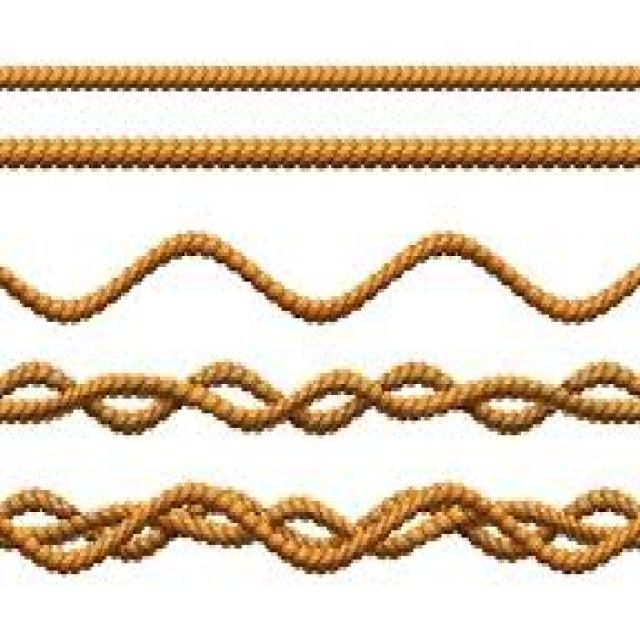Rope: (0, 464, 640, 588)
